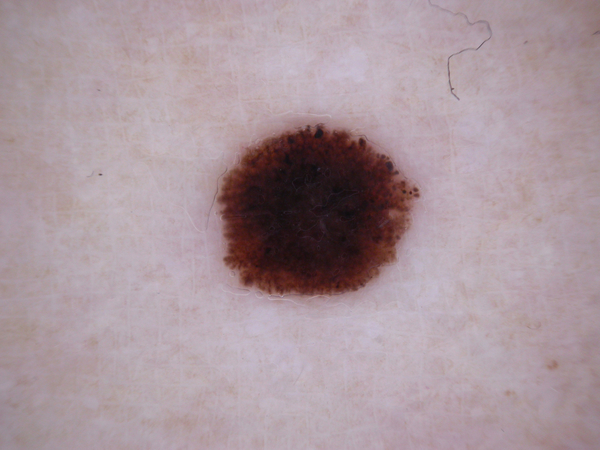Detected Lesion: (214, 119, 427, 299)
